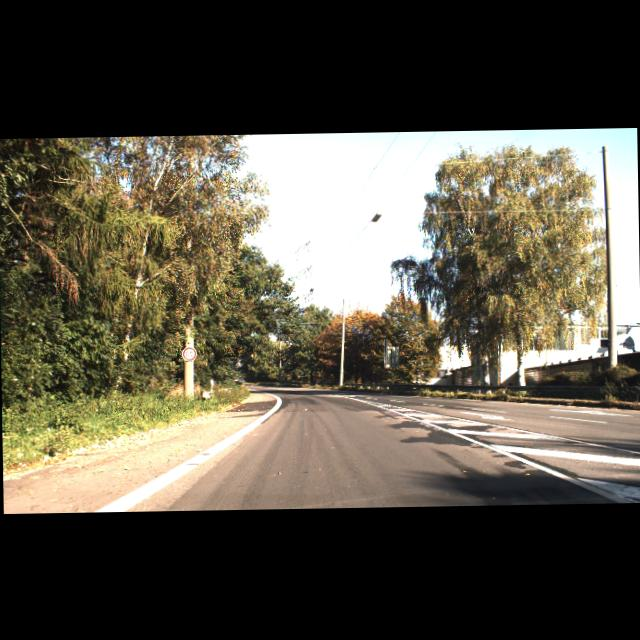prohibitory: (182, 346, 196, 360)
